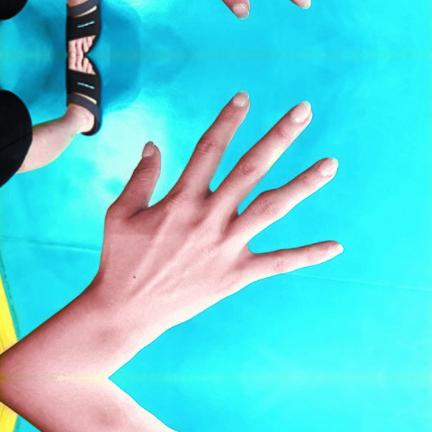Nail: (289, 100, 312, 121), (318, 157, 339, 174), (232, 89, 250, 105), (232, 3, 250, 19), (327, 241, 343, 255), (142, 140, 156, 155), (293, 0, 311, 8)
